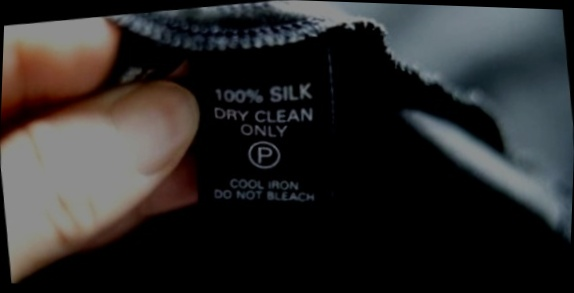dry_clean_any_solvent_except_trichloroethylene: (245, 135, 286, 173)
